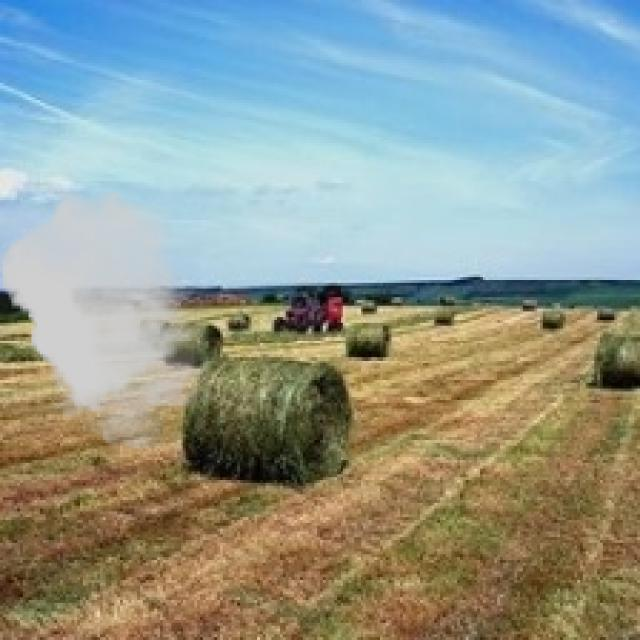smoke: (0, 188, 209, 448)
